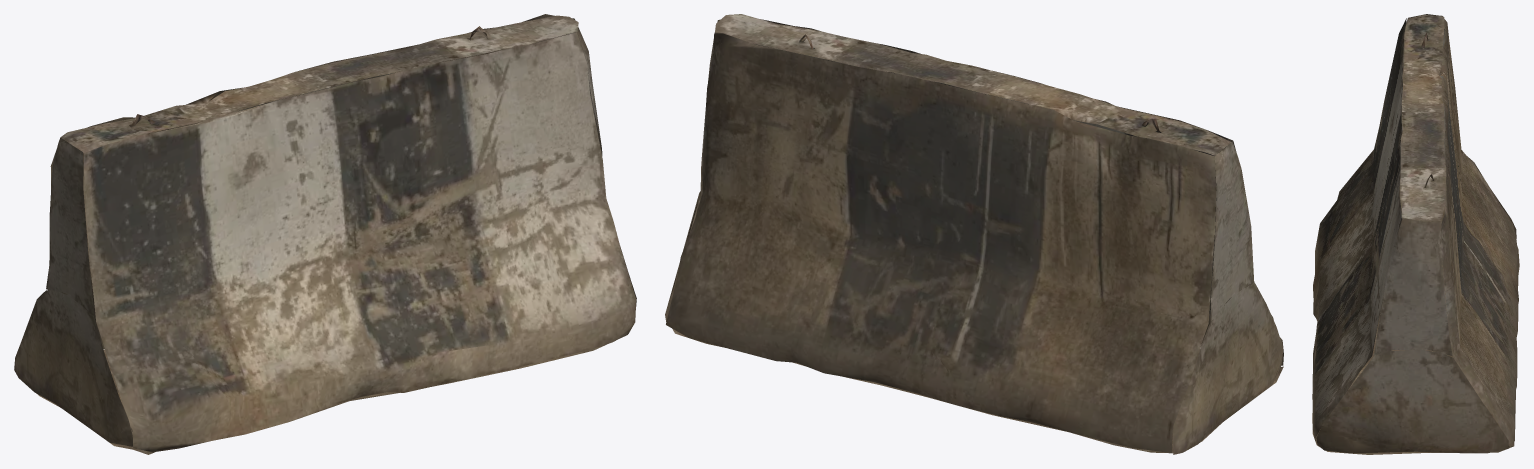
File: barrier.glb
3 views of the same model, side by side, from view 1: azimuth 30°, elevation 25°; view 2: azimuth 150°, elevation 25°; view 3: azimuth 270°, elevation 25° (orthographic). The views are drawn at different scales.
Parts seen in each view (by area): view 1: concrete_road_barrier; view 2: concrete_road_barrier; view 3: concrete_road_barrier.
Part boxes in pixels (box(x1,y1,x2,y2)): concrete_road_barrier: box(14, 14, 636, 454); concrete_road_barrier: box(665, 14, 1283, 454); concrete_road_barrier: box(1312, 14, 1519, 454).
Size of the model in its own units: 2 by 1.08 by 0.8239.
Materials: 1 (1 with a texture image).
